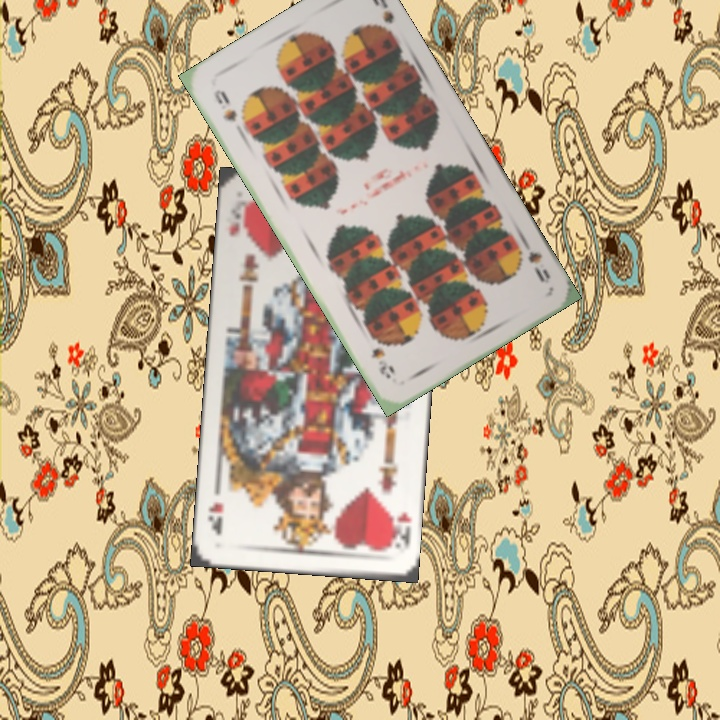HK: (385, 508, 414, 552), (225, 197, 251, 238)
S9: (517, 233, 553, 285), (209, 85, 240, 125)
